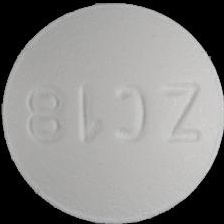61919-513: (0, 0, 224, 224)
